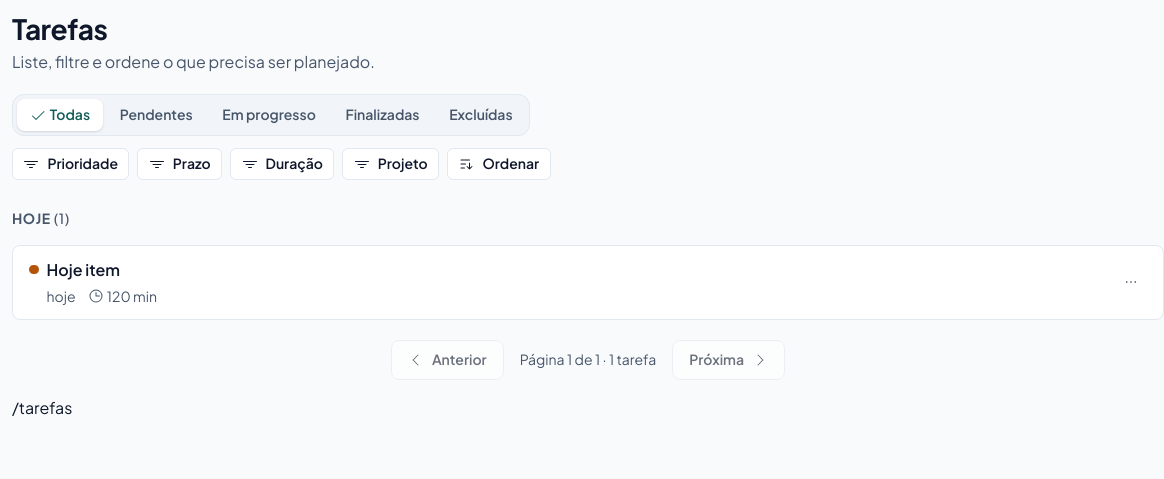
Test: TarefasPage › filtros › T8: escolher prioridade no popover atualiza URL e lista sem botão Aplicar
Check: the text "Hoje item" is shown, box [47,258,120,282]
Click the button "Prioridade" at coordinates (71, 164), box [12,148,129,180]
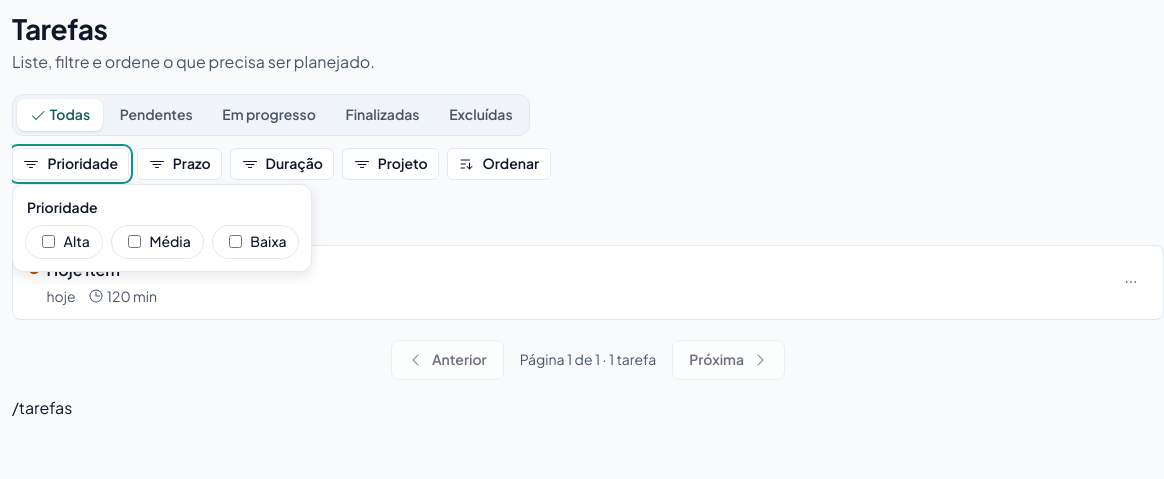
Click the checkbox labelled "Alta" at coordinates (48, 242), box [42,235,55,248]
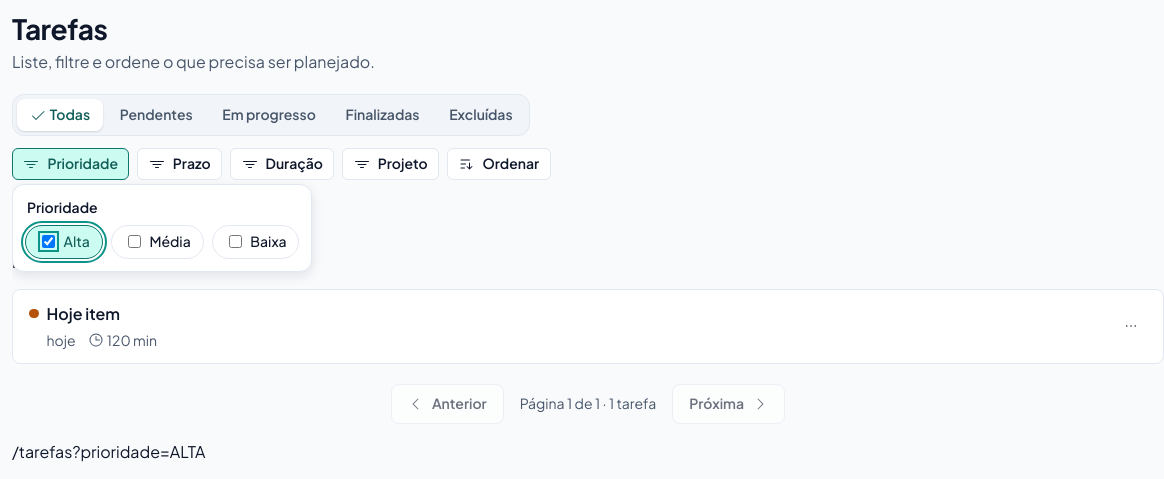
Check: the text with test id "local" reads "/tarefas?prioridade=ALTA", box [12,441,206,462]
